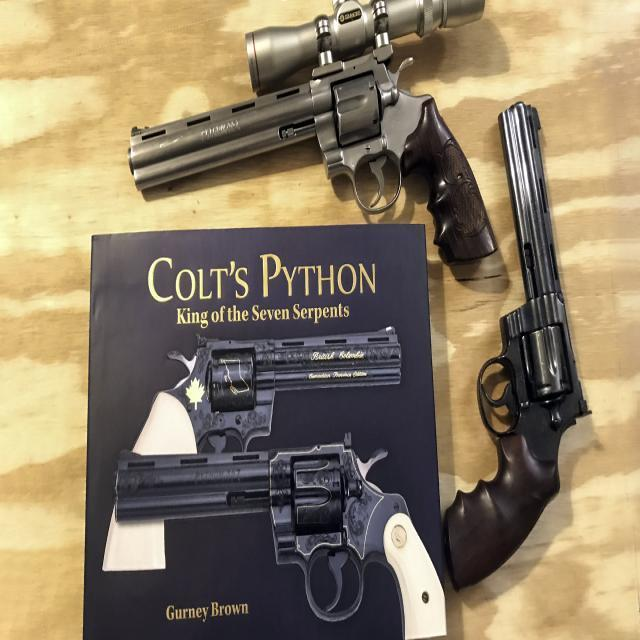Pistol: (111, 43, 587, 640)
